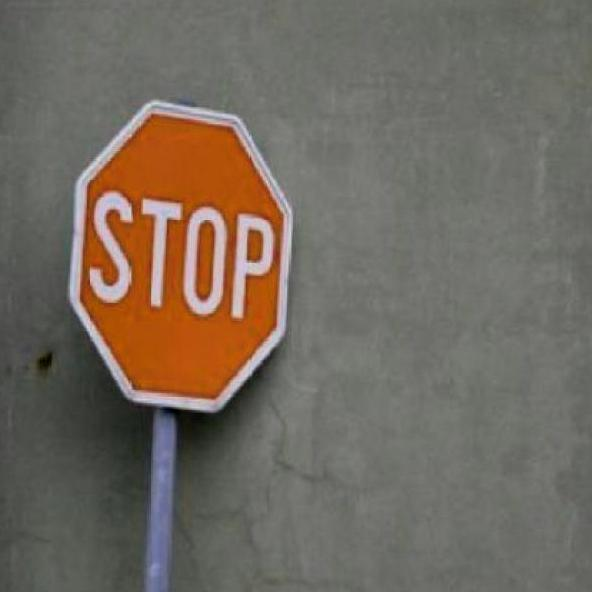stop_sign: (61, 94, 294, 410)
